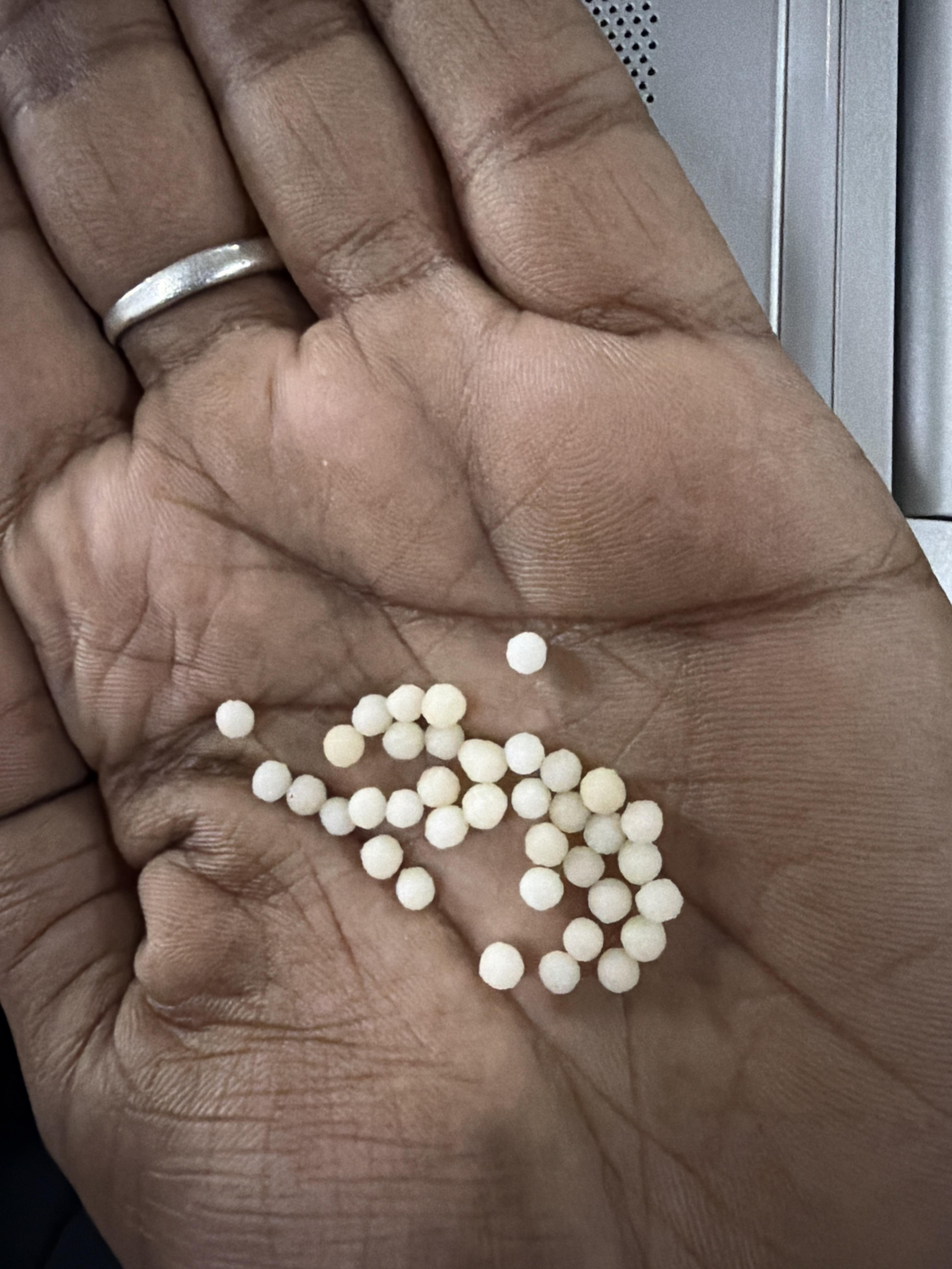pill: (457, 738, 507, 783), (579, 767, 626, 814), (479, 941, 524, 990), (621, 914, 666, 962), (461, 783, 507, 829), (421, 683, 467, 728), (587, 878, 632, 924), (636, 878, 683, 922), (597, 947, 640, 994), (360, 835, 403, 880), (519, 868, 564, 911), (525, 822, 568, 867), (424, 806, 469, 849), (619, 841, 662, 885), (539, 749, 581, 793), (323, 724, 365, 768), (563, 917, 604, 962), (539, 950, 580, 995), (562, 846, 605, 888), (417, 766, 460, 808), (621, 799, 663, 842), (395, 866, 435, 911), (583, 814, 626, 855), (506, 631, 547, 674), (352, 694, 393, 737), (504, 733, 545, 775), (511, 777, 552, 819), (549, 792, 590, 833), (252, 760, 292, 802), (286, 774, 326, 816), (348, 787, 387, 830), (382, 721, 423, 760), (215, 700, 254, 739), (386, 788, 424, 828), (425, 724, 465, 761), (386, 684, 424, 722), (319, 797, 355, 836)
